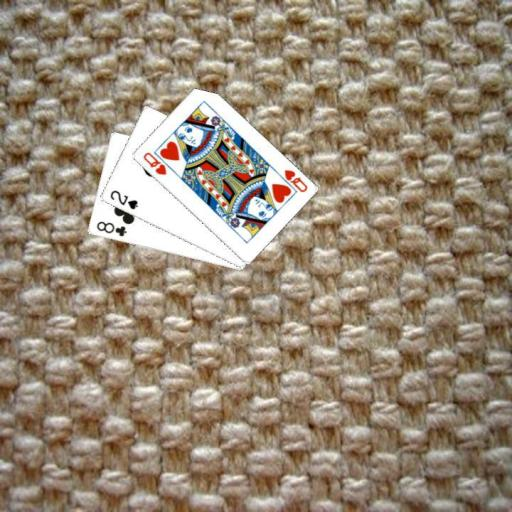2S: (107, 187, 139, 211)
8C: (93, 219, 128, 239)
QH: (273, 167, 309, 194), (140, 150, 168, 177)
